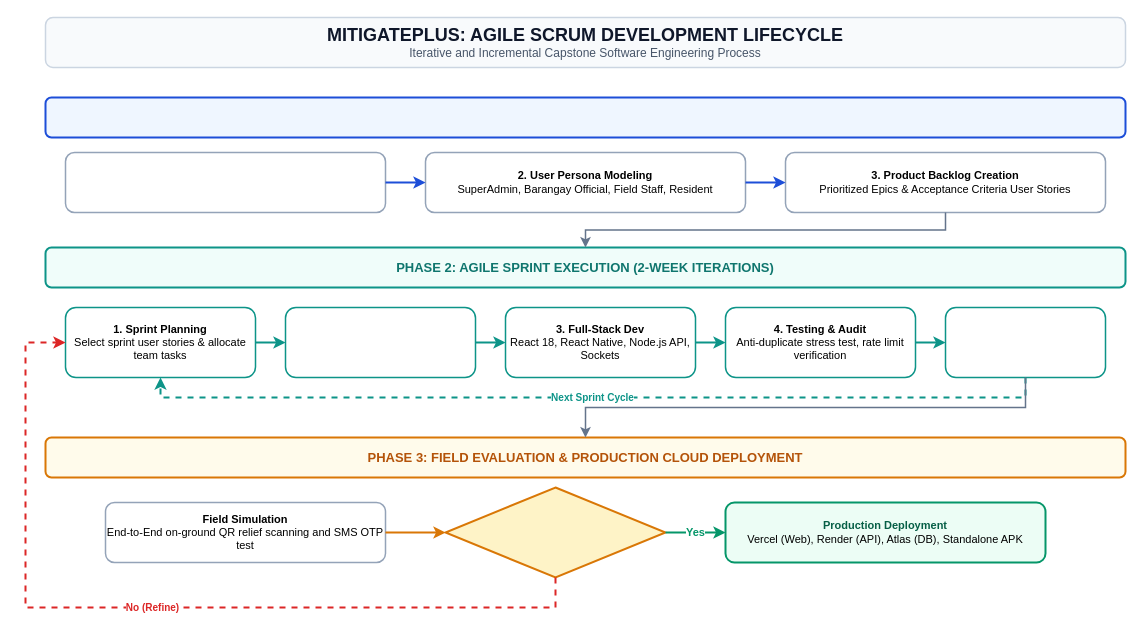
This 1143x634 diagram has some shape labels left out. The shapes that lost their labels are listed below. From the top down, each one's centre as x and y in pixels, then its label:
(x=585, y=117): PHASE 1: PRODUCT BACKLOG & REQUIREMENTS GATHERING
(x=225, y=182): 1. Stakeholder Interviews Analyze DSWD & Manila LGU Relief Quota Guidelines
(x=380, y=342): 2. UI/UX & Schema Design Wireframing & Mongoose database schemas
(x=1025, y=342): 5. Review & Retrospect Demonstration & backlog refinement
(x=555, y=532): Meets Defense & LGU Standards?
